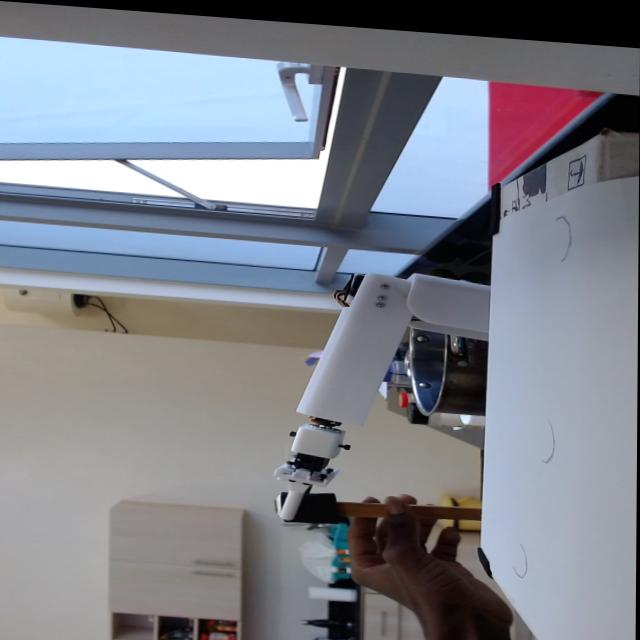cooking_pot: (393, 319, 485, 416)
spatula: (287, 482, 487, 528)
